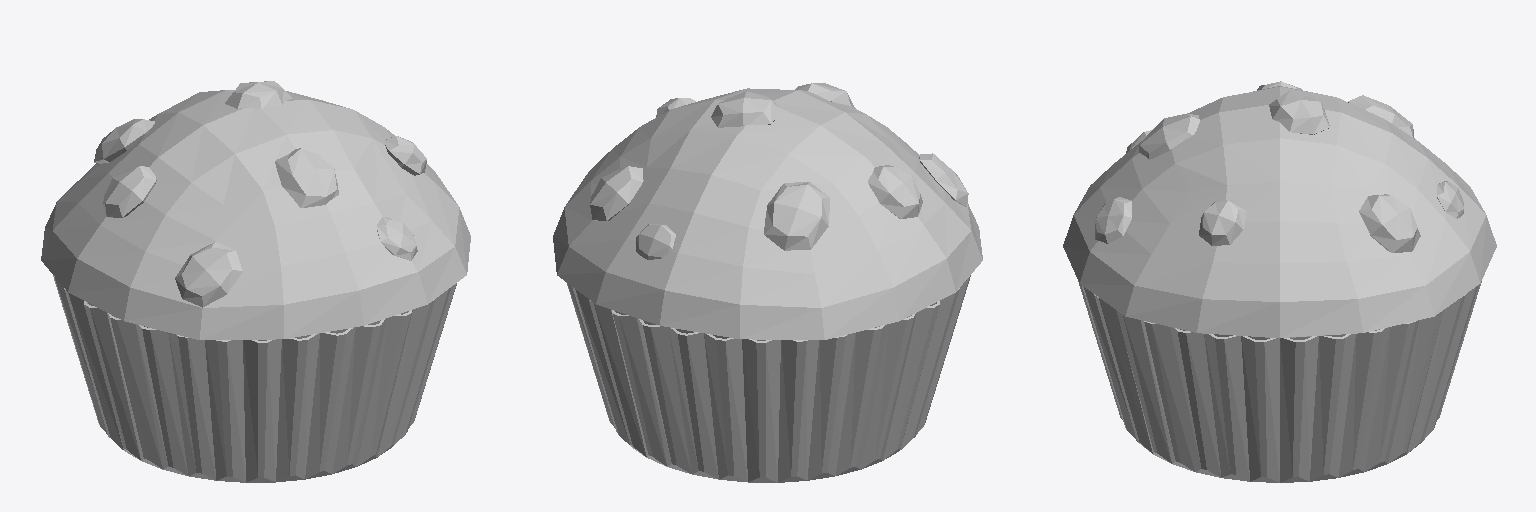
File: blueberrymuffin.obj
3 views of the same model, side by side, from view 1: azimuth 30°, elevation 25°; view 2: azimuth 150°, elevation 25°; view 3: azimuth 270°, elevation 25° (orthographic).
Bounding box in the file's own units: 2.77 × 2.29 × 2.77.